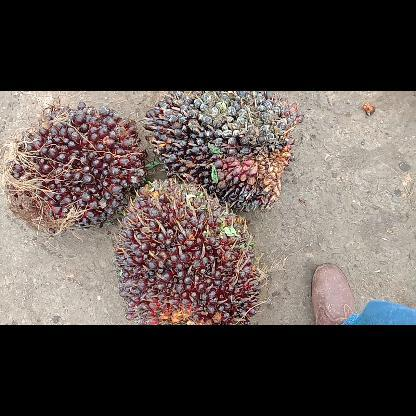Kurang masak: (115, 181, 261, 324), (8, 102, 142, 230)
TBS mentah: (142, 91, 304, 211)
